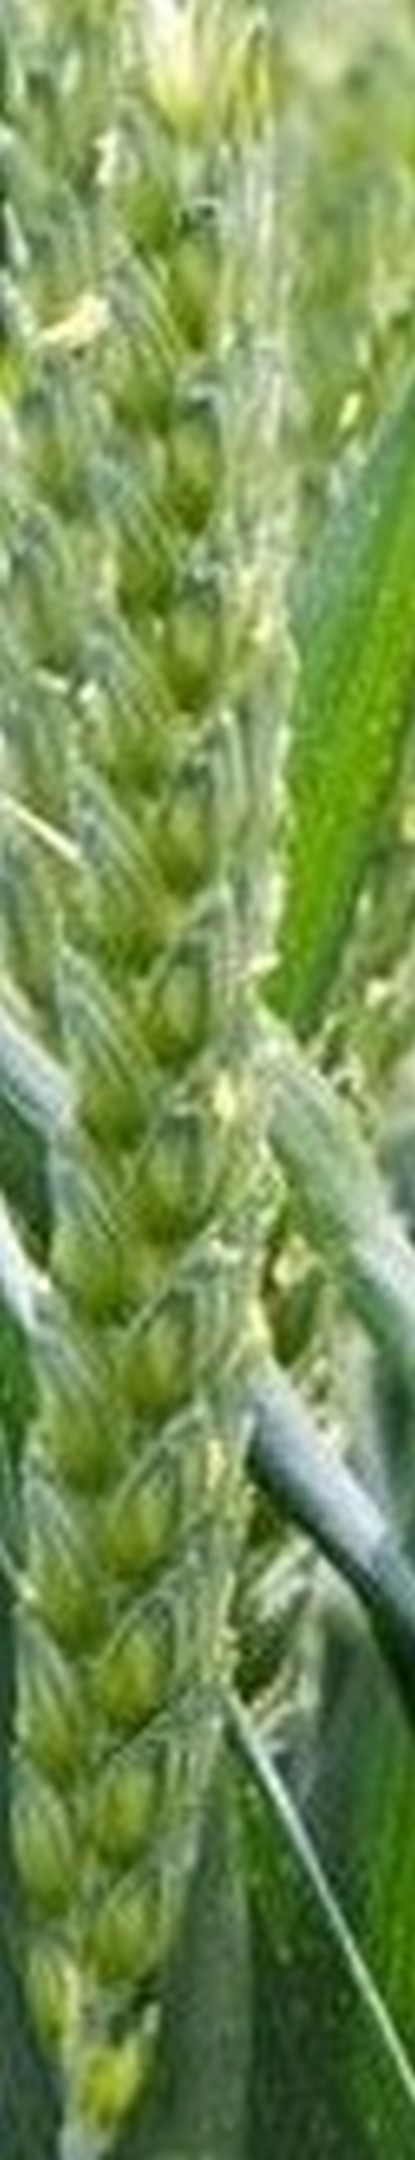Healthy Wheat: (10, 70, 307, 2091)
